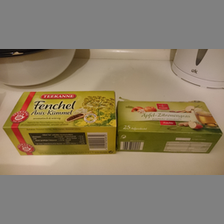tea: (2, 90, 118, 157), (117, 100, 222, 155)
